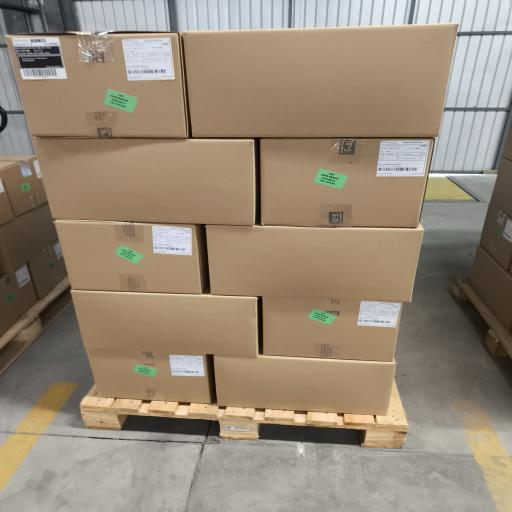pallet: (81, 384, 408, 448), (0, 277, 72, 374), (453, 278, 511, 385)
